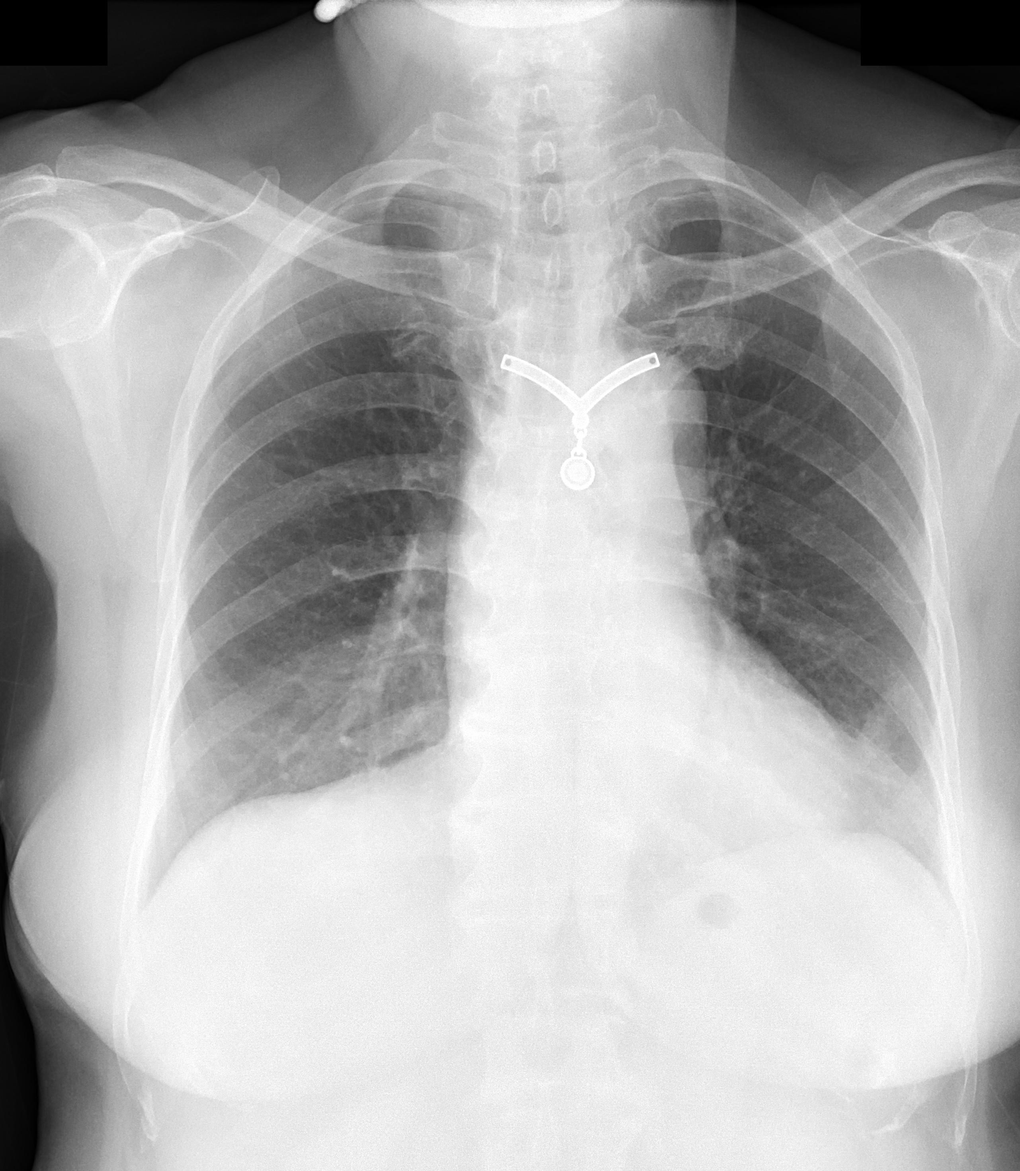Aortic enlargement: (571, 344, 710, 497)
Cardiomegaly: (445, 691, 856, 860)
Pleural thickening: (325, 174, 476, 206), (610, 168, 733, 194)
